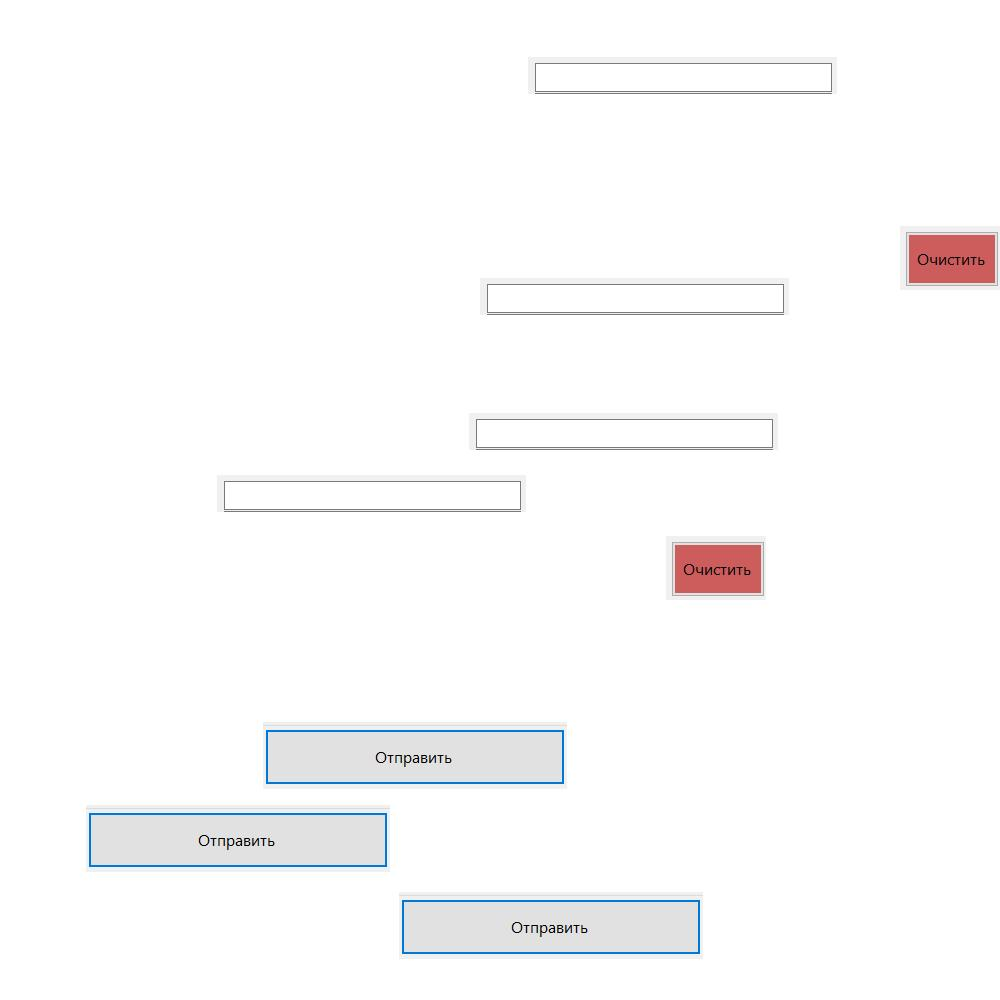Button: (263, 722, 567, 789), (86, 805, 390, 872), (399, 892, 703, 959), (666, 536, 766, 600), (900, 226, 1000, 290)
EditText-: (528, 57, 837, 94), (480, 278, 789, 315), (217, 475, 526, 512), (469, 413, 778, 450)
